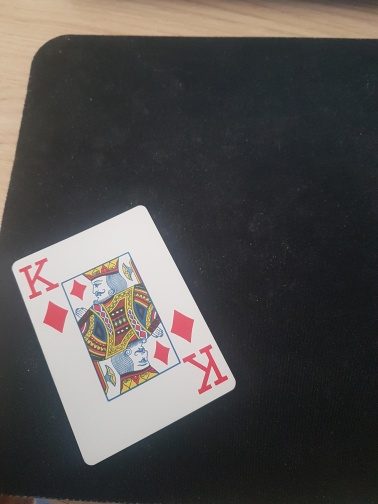king: (10, 204, 235, 465)
